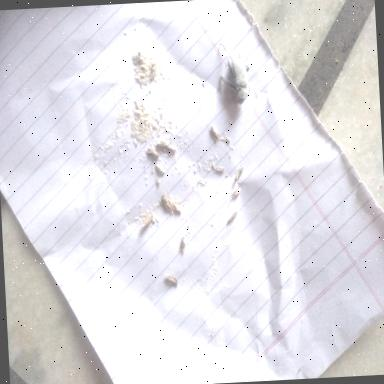pbw: (226, 210, 238, 225), (142, 213, 154, 227), (228, 186, 240, 200), (211, 126, 220, 142), (166, 275, 178, 285), (146, 148, 158, 158), (156, 163, 166, 174), (180, 237, 186, 255), (236, 166, 243, 181), (167, 144, 177, 153), (161, 139, 170, 147)
